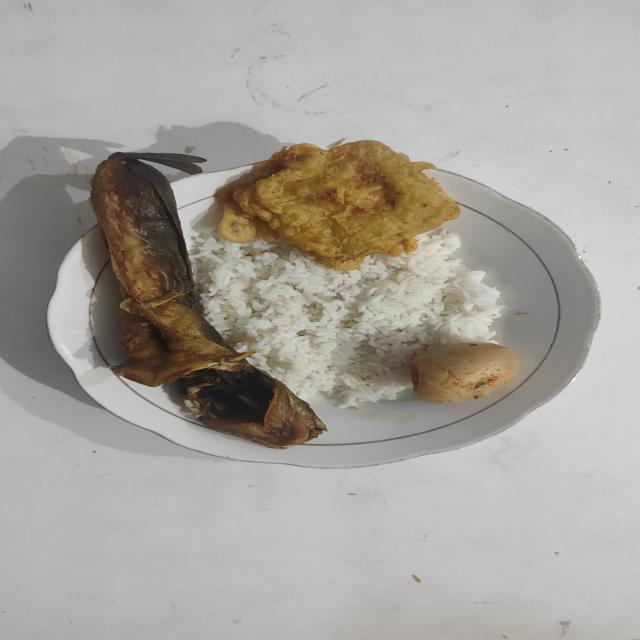nasi_putih: (190, 228, 501, 408)
